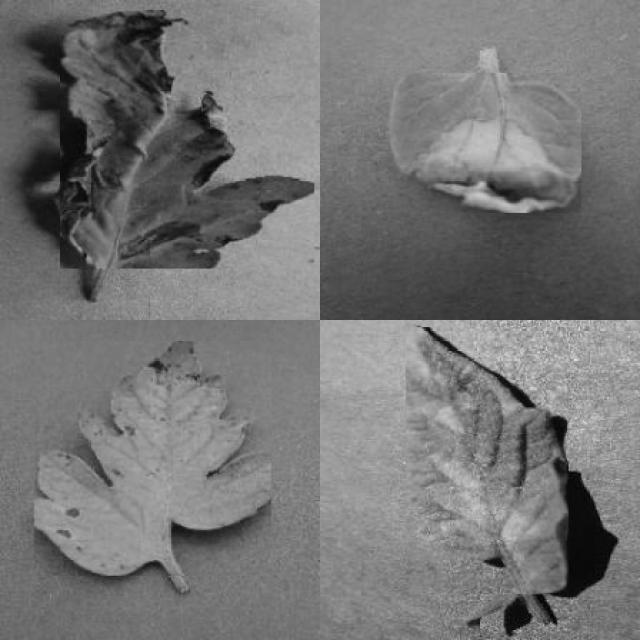Early Blight: (59, 11, 314, 269)
Late Blight: (388, 74, 582, 214)
Leaf Mold: (406, 327, 568, 594)
Septoria: (35, 340, 272, 576)
